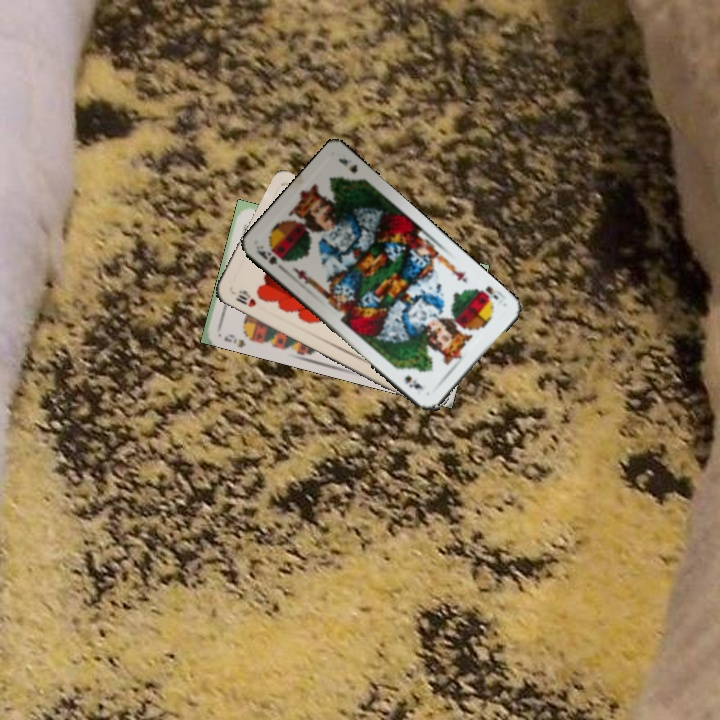H10: (232, 286, 259, 310)
S9: (220, 329, 258, 349)
SK: (252, 241, 288, 274), (472, 282, 501, 307)
